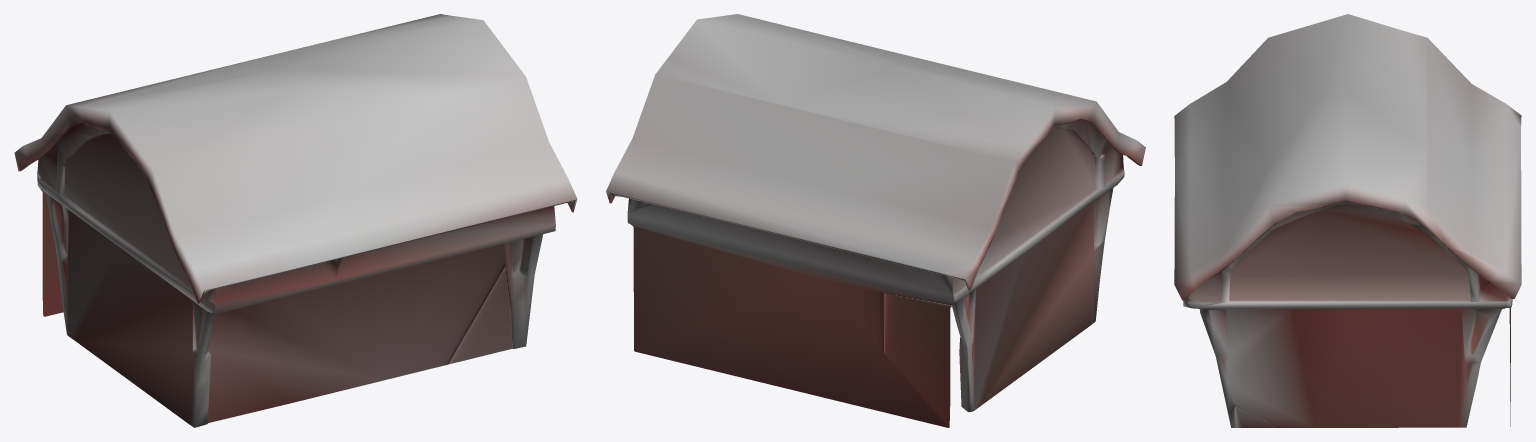
Rendered from barn_near.glb.
3 views of the same model, side by side, from view 1: azimuth 30°, elevation 25°; view 2: azimuth 150°, elevation 25°; view 3: azimuth 270°, elevation 25° (orthographic). The views are drawn at different scales.
Visible parts, largest first — view 1: barn; view 2: barn; view 3: barn.
Part boxes in pixels (x1,y1,x2,y2): barn: [14, 14, 577, 427]; barn: [606, 14, 1145, 427]; barn: [1174, 14, 1521, 427].
Bounding box in the file's own units: 1.42 × 1 × 1.23.
